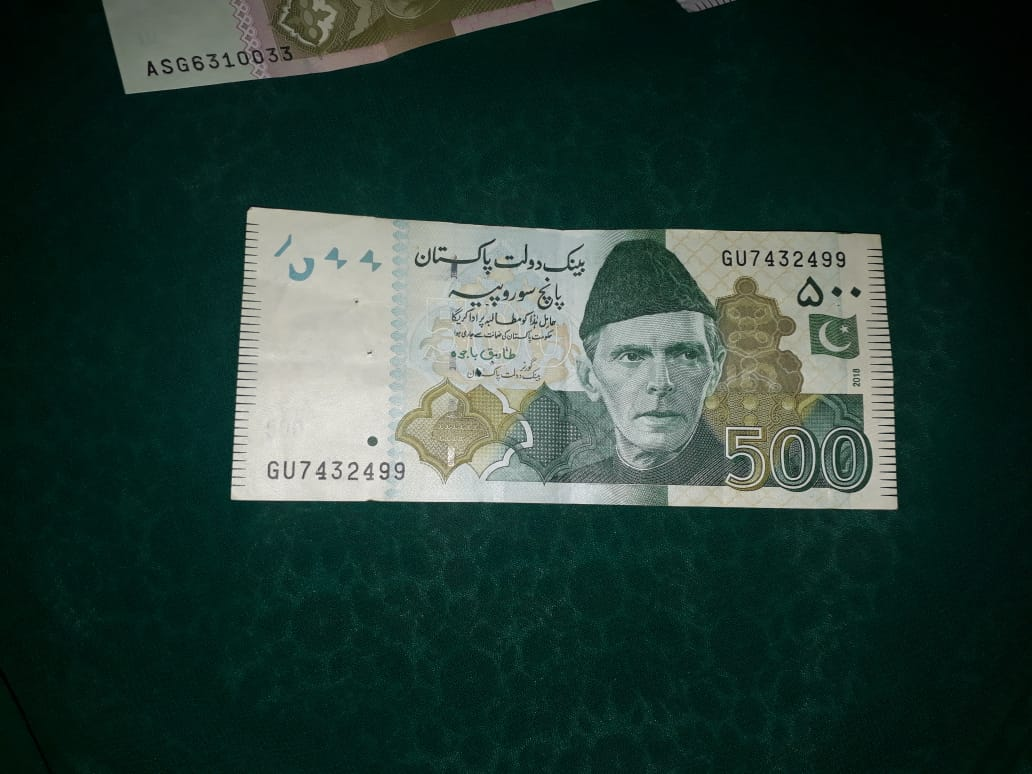500 rupee: (239, 209, 901, 524)
